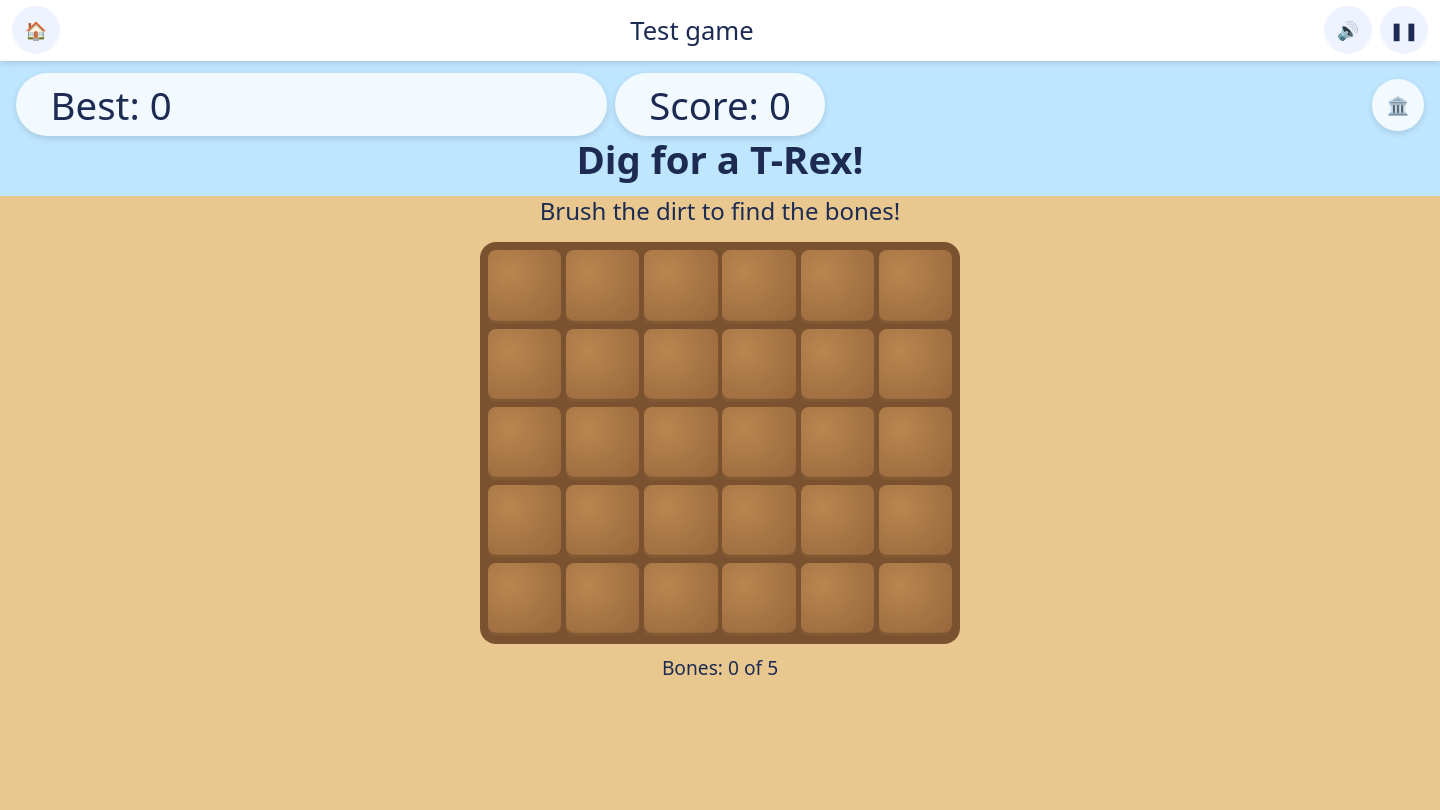
Scenario: DigScreen › lets a bone you find join the others in the tray
The image size is (1440, 810).
Click the button named "Dirt 1" at (525, 287), box x1=488 y1=250 x2=561 y2=324
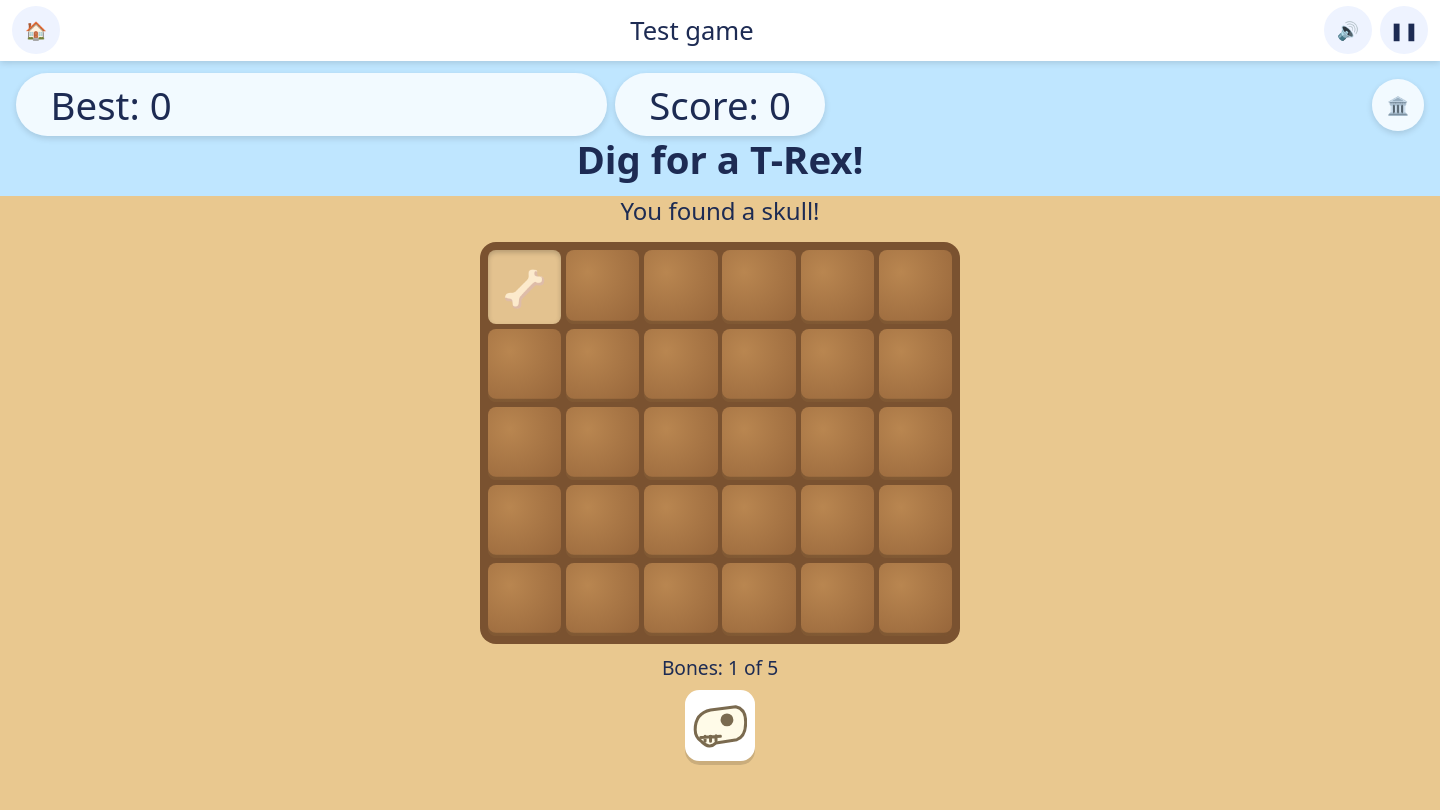
Expected: the message "You found a skull!" is shown, x1=620 y1=194 x2=820 y2=233
Expected: the button named "Bone: skull" is shown, x1=685 y1=690 x2=755 y2=761
Expected: the text "Bones: 1 of 5" is shown, x1=662 y1=654 x2=778 y2=681
